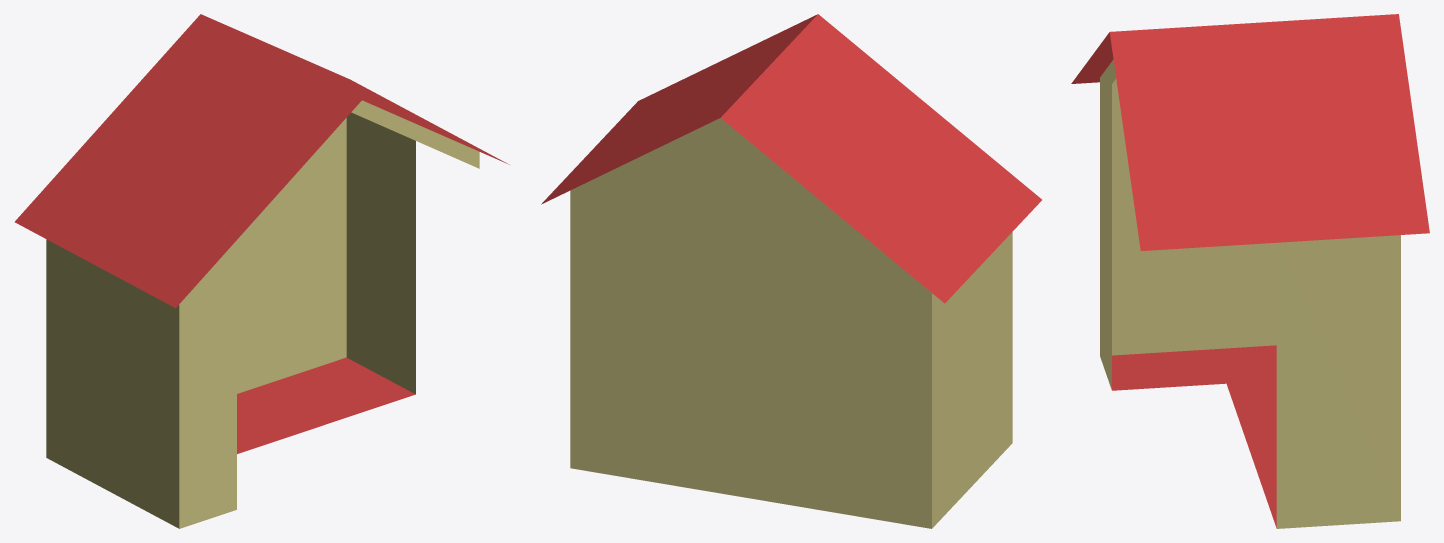
The picture shows the model from 3 angles, left to right: view 1: azimuth 30°, elevation 25°; view 2: azimuth 150°, elevation 25°; view 3: azimuth 270°, elevation 25°; orthographic projection. The views are drawn at different scales.
Size of the model in its own units: 15.22 by 10.54 by 13.83.
